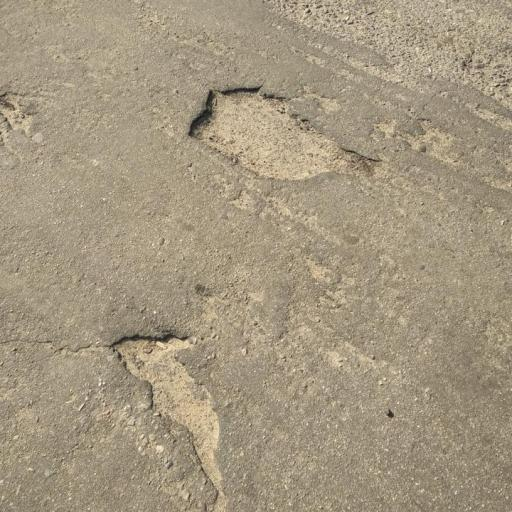pothole: (110, 330, 233, 511), (182, 81, 387, 186), (0, 90, 41, 146)
